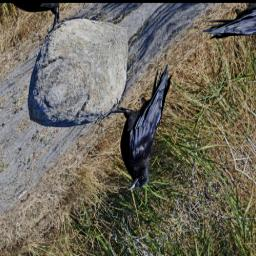Crow: (83, 54, 212, 201)
